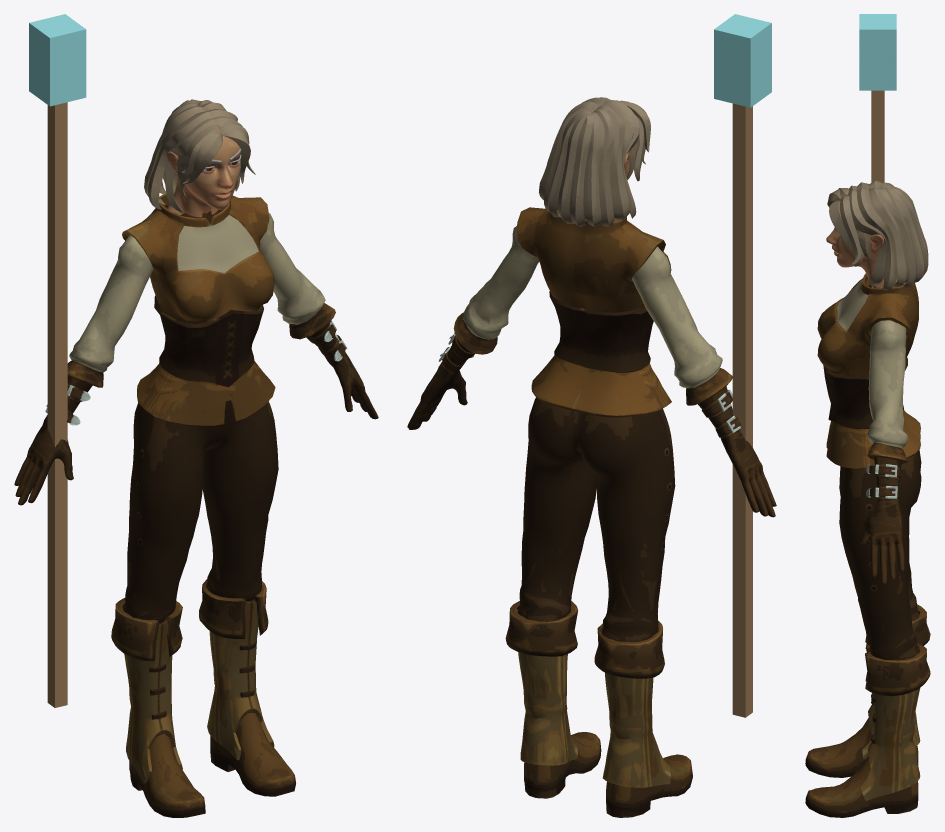
Rendered from peasant-staff.glb.
3 renders of one model, left to right at view 1: azimuth 30°, elevation 25°; view 2: azimuth 150°, elevation 25°; view 3: azimuth 270°, elevation 25°, orthographic. The views are drawn at different scales.
Parts seen in each view (by area): view 1: Female_Peasant_Body, Female_Peasant_Legs, Female_Peasant_Feet, Female_Peasant_Arms, weapon_staff, Hair_Long, weapon_crystal, Superhero_Female; view 2: Female_Peasant_Legs, Female_Peasant_Body, Female_Peasant_Feet, Female_Peasant_Arms, weapon_staff, Hair_Long, weapon_crystal; view 3: Female_Peasant_Feet, Female_Peasant_Body, Female_Peasant_Legs, Female_Peasant_Arms, Hair_Long, weapon_crystal, weapon_staff, Superhero_Female.
Boxes of the visible parts, bbox=[...] form: Female_Peasant_Body: bbox=[122, 192, 275, 425]; Female_Peasant_Legs: bbox=[123, 401, 278, 622]; Female_Peasant_Feet: bbox=[111, 579, 295, 817]; Female_Peasant_Arms: bbox=[14, 213, 378, 505]; weapon_staff: bbox=[47, 102, 67, 707]; Hair_Long: bbox=[144, 99, 255, 212]; weapon_crystal: bbox=[29, 14, 86, 106]; Superhero_Female: bbox=[166, 136, 240, 217]; Female_Peasant_Legs: bbox=[517, 397, 675, 641]; Female_Peasant_Body: bbox=[516, 207, 671, 417]; Female_Peasant_Feet: bbox=[505, 601, 692, 817]; Female_Peasant_Arms: bbox=[407, 226, 776, 517]; weapon_staff: bbox=[732, 103, 752, 717]; Hair_Long: bbox=[539, 97, 650, 226]; weapon_crystal: bbox=[714, 14, 771, 107]; Female_Peasant_Feet: bbox=[805, 604, 930, 817]; Female_Peasant_Body: bbox=[817, 273, 920, 468]; Female_Peasant_Legs: bbox=[839, 450, 921, 660]; Female_Peasant_Arms: bbox=[859, 285, 907, 583]; Hair_Long: bbox=[827, 180, 928, 290]; weapon_crystal: bbox=[859, 14, 896, 90]; weapon_staff: bbox=[871, 90, 884, 182]; Superhero_Female: bbox=[826, 227, 904, 288].
Bounding box in the file's own units: 0.9892 × 2.08 × 0.3348.
11 materials, 8 textured.
